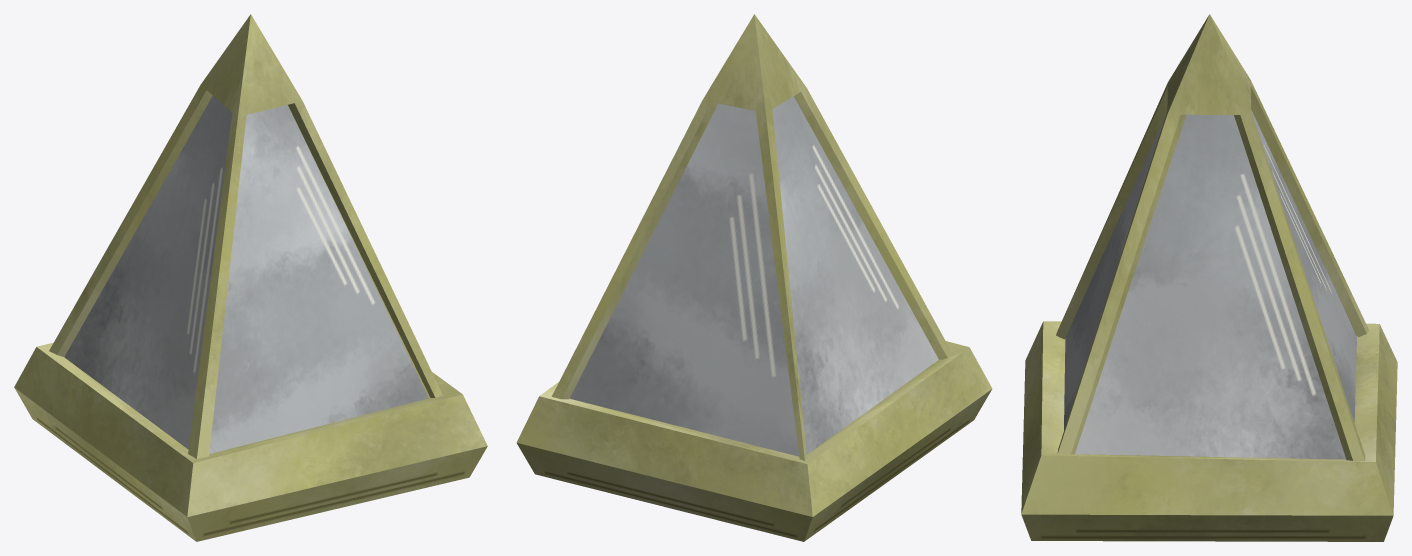
The model's file is Prism2.fbx.
3 views of the same model, side by side, from view 1: azimuth 30°, elevation 25°; view 2: azimuth 150°, elevation 25°; view 3: azimuth 270°, elevation 25° (orthographic). The views are drawn at different scales.
Visible parts, largest first — view 1: pPyramid1; view 2: pPyramid1; view 3: pPyramid1.
Boxes of the visible parts, x1=… form: pPyramid1: x1=14, y1=14, x2=487, y2=541; pPyramid1: x1=516, y1=14, x2=992, y2=541; pPyramid1: x1=1021, y1=14, x2=1397, y2=541.
Size of the model in its own units: 2.89 by 3.97 by 2.96.
2 materials, 2 textured.
